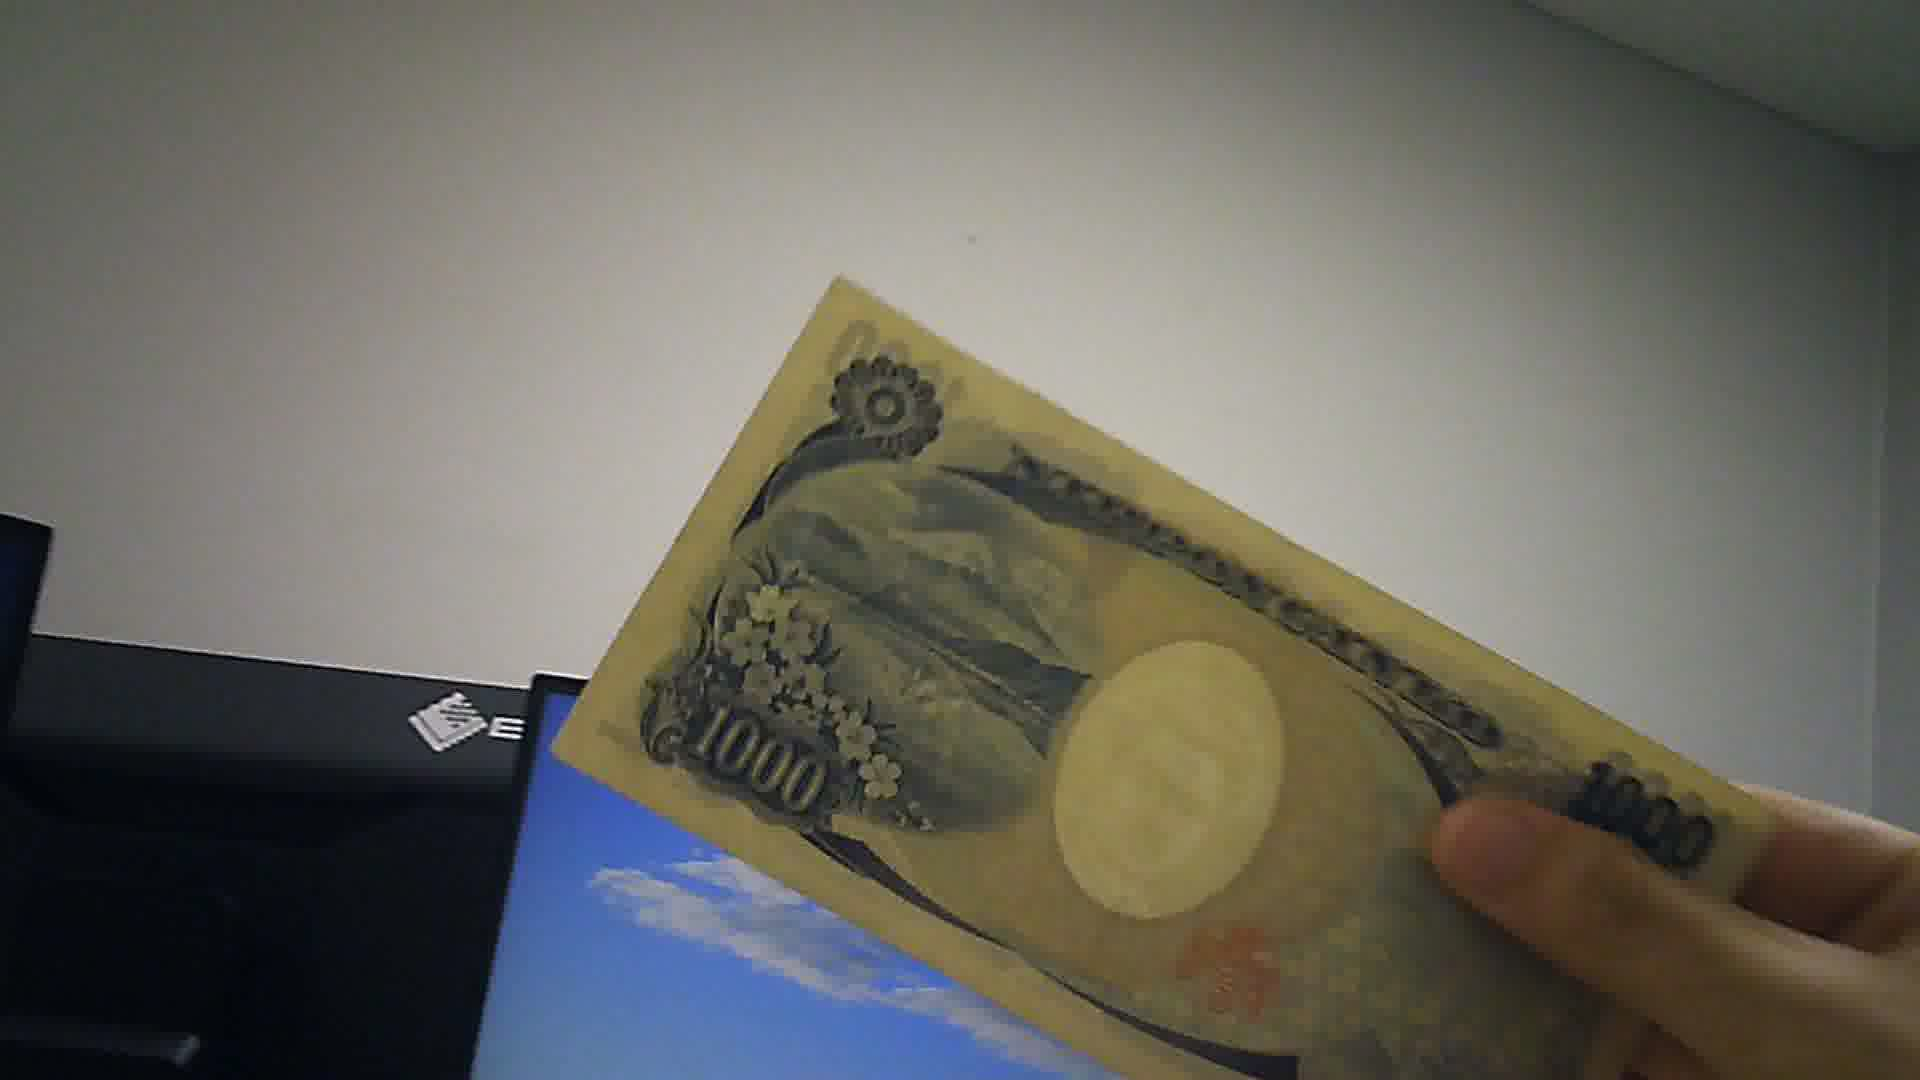1,000 Yen: (560, 266, 1782, 1079)
